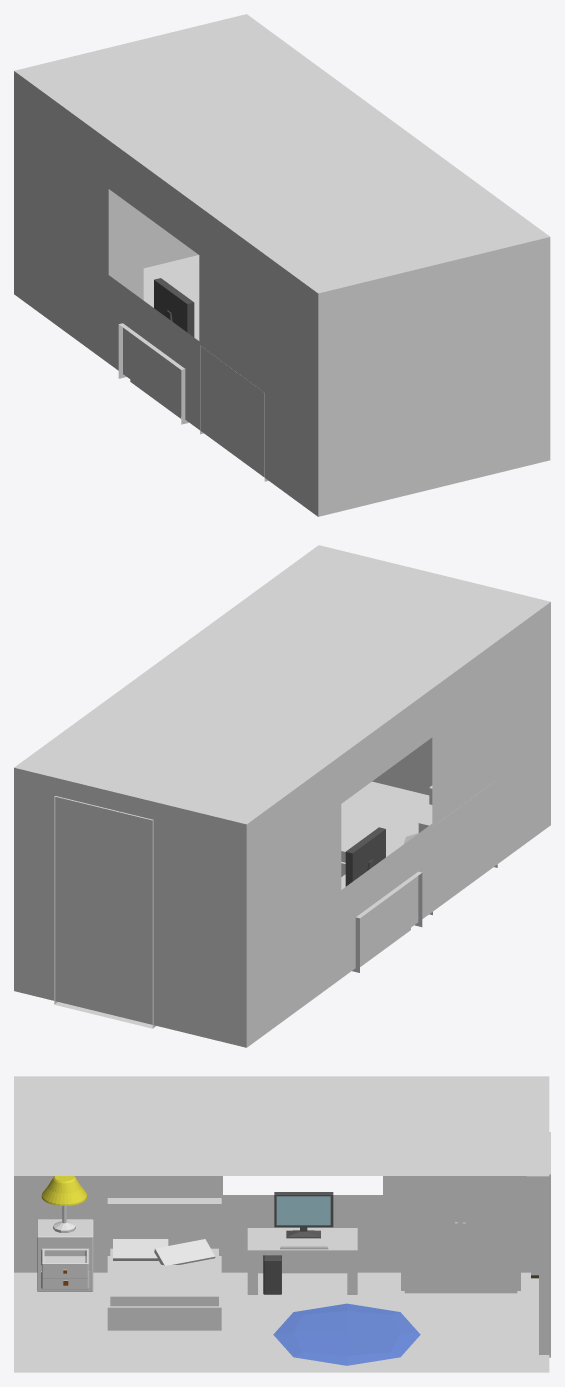
3 renders of one model, top to bottom at view 1: azimuth 30°, elevation 25°; view 2: azimuth 150°, elevation 25°; view 3: azimuth 270°, elevation 25°, orthographic. The views are drawn at different scales.
Visible parts, largest first — view 1: Cube.012, Cube.013, Cube.011, Cube.008, Cube.001; view 2: Cube.012, Cube.003, Cube.008, Cube.011, Cube.001; view 3: Cube.012, Cube.013, Cube.003, Plane, Cube.001, Cube.005, Cube.008, Cube.011, Cube.016, Cylinder.001, Cube.015, Cube.004 (+1 smaller).
Part boxes in pixels (box(x1,y1,x2,y2)): Cube.012: box(14, 14, 550, 516); Cube.013: box(108, 189, 143, 300); Cube.011: box(143, 215, 198, 268); Cube.008: box(154, 278, 194, 337); Cube.001: box(118, 323, 199, 424); Cube.012: box(14, 545, 550, 1047); Cube.003: box(341, 784, 497, 915); Cube.008: box(345, 827, 385, 886); Cube.011: box(54, 796, 155, 1028); Cube.001: box(341, 871, 422, 972); Cube.012: box(14, 1076, 549, 1372); Cube.013: box(401, 1176, 520, 1293); Cube.003: box(107, 1198, 221, 1330); Plane: box(273, 1303, 420, 1365); Cube.001: box(247, 1228, 357, 1294); Cube.005: box(37, 1219, 93, 1291); Cube.008: box(274, 1192, 333, 1238); Cube.011: box(531, 1132, 550, 1357); Cube.016: box(154, 1239, 215, 1265); Cylinder.001: box(41, 1176, 87, 1205); Cube.015: box(113, 1239, 168, 1260); Cube.004: box(263, 1255, 281, 1294).
Size of the model in its own units: 290 by 270 by 647.
